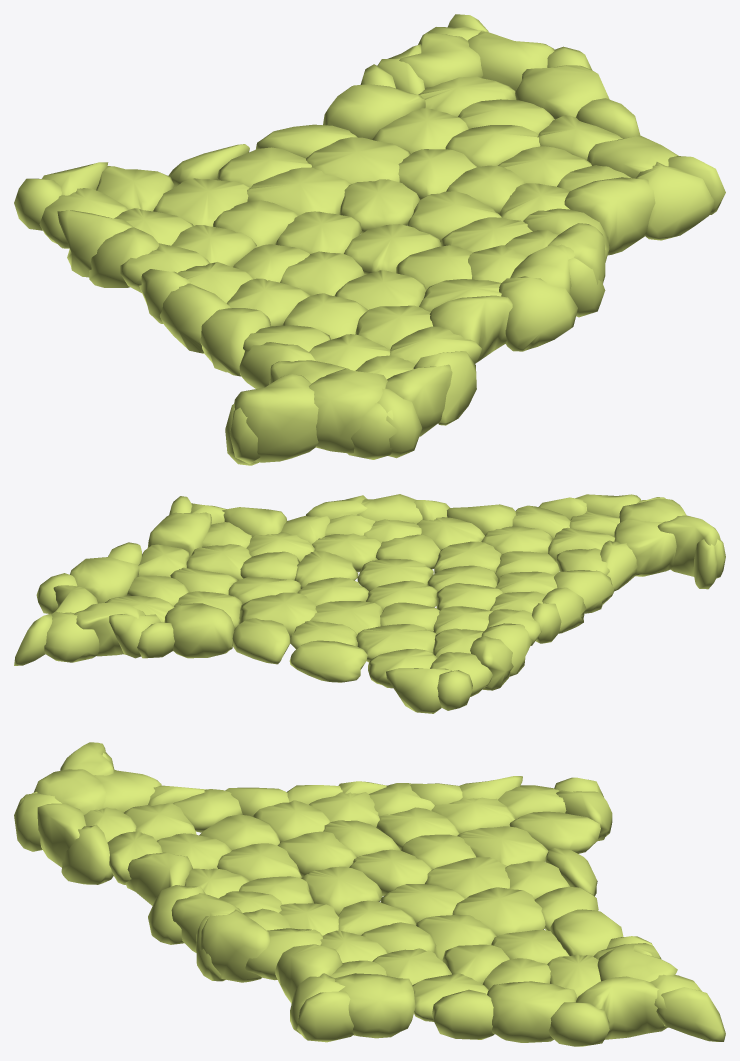
Rendered from Islands3.004_fog.fbx.
3 renders of one model, top to bottom at view 1: azimuth 30°, elevation 25°; view 2: azimuth 150°, elevation 25°; view 3: azimuth 270°, elevation 25°, orthographic. The views are drawn at different scales.
Visible parts, largest first — view 1: Island3.004_fog_cell.051, Island3.004_fog_cell.069, Island3.004_fog_cell.077, Island3.004_fog_cell.013, Island3.004_fog_cell.029, Island3.004_fog_cell.035, Island3.004_fog_cell.012, Island3.004_fog_cell.050, Island3.004_fog_cell.066, Island3.004_fog_cell.058, Island3.004_fog_cell.021, Island3.004_fog_cell.074 (+62 smaller); view 2: Island3.004_fog_cell.035, Island3.004_fog_cell.025, Island3.004_fog_cell.065, Island3.004_fog_cell.012, Island3.004_fog_cell.042, Island3.004_fog_cell.073, Island3.004_fog_cell.050, Island3.004_fog_cell.041, Island3.004_fog_cell.074, Island3.004_fog_cell.051, Island3.004_fog_cell.057, Island3.004_fog_cell.076 (+62 smaller); view 3: Island3.004_fog_cell.012, Island3.004_fog_cell.057, Island3.004_fog_cell.031, Island3.004_fog_cell.048, Island3.004_fog_cell.050, Island3.004_fog_cell.071, Island3.004_fog_cell.005, Island3.004_fog_cell.044, Island3.004_fog_cell.040, Island3.004_fog_cell.074, Island3.004_fog_cell.035, Island3.004_fog_cell.006 (+61 smaller).
Part boxes in pixels (x1,y1,x2,y2): Island3.004_fog_cell.051: (234, 374, 318, 462); Island3.004_fog_cell.069: (564, 177, 655, 255); Island3.004_fog_cell.077: (309, 368, 387, 453); Island3.004_fog_cell.013: (499, 276, 577, 351); Island3.004_fog_cell.029: (636, 162, 714, 240); Island3.004_fog_cell.035: (323, 84, 425, 139); Island3.004_fog_cell.012: (515, 65, 609, 119); Island3.004_fog_cell.050: (306, 137, 410, 183); Island3.004_fog_cell.066: (247, 167, 351, 215); Island3.004_fog_cell.058: (429, 295, 512, 362); Island3.004_fog_cell.021: (339, 179, 419, 234); Island3.004_fog_cell.074: (153, 178, 250, 226); Island3.004_fog_cell.035: (164, 603, 234, 658); Island3.004_fog_cell.025: (289, 640, 367, 682); Island3.004_fog_cell.065: (614, 519, 676, 576); Island3.004_fog_cell.012: (70, 557, 139, 603); Island3.004_fog_cell.042: (44, 611, 99, 662); Island3.004_fog_cell.073: (232, 618, 290, 664); Island3.004_fog_cell.050: (239, 592, 317, 638); Island3.004_fog_cell.041: (386, 668, 451, 713); Island3.004_fog_cell.074: (356, 624, 436, 662); Island3.004_fog_cell.051: (657, 515, 720, 576); Island3.004_fog_cell.057: (147, 512, 211, 556); Island3.004_fog_cell.076: (74, 602, 145, 656); Island3.004_fog_cell.012: (487, 981, 576, 1042); Island3.004_fog_cell.057: (335, 973, 415, 1038); Island3.004_fog_cell.031: (576, 976, 668, 1039); Island3.004_fog_cell.048: (200, 909, 270, 982); Island3.004_fog_cell.050: (452, 887, 545, 936); Island3.004_fog_cell.071: (656, 987, 725, 1041); Island3.004_fog_cell.005: (431, 989, 494, 1039); Island3.004_fog_cell.044: (509, 811, 600, 853); Island3.004_fog_cell.040: (301, 866, 382, 915); Island3.004_fog_cell.074: (457, 826, 548, 866); Island3.004_fog_cell.035: (550, 909, 623, 956); Island3.004_fog_cell.006: (297, 991, 353, 1042).
Bounding box in the file's own units: 108 × 12.75 × 119.
